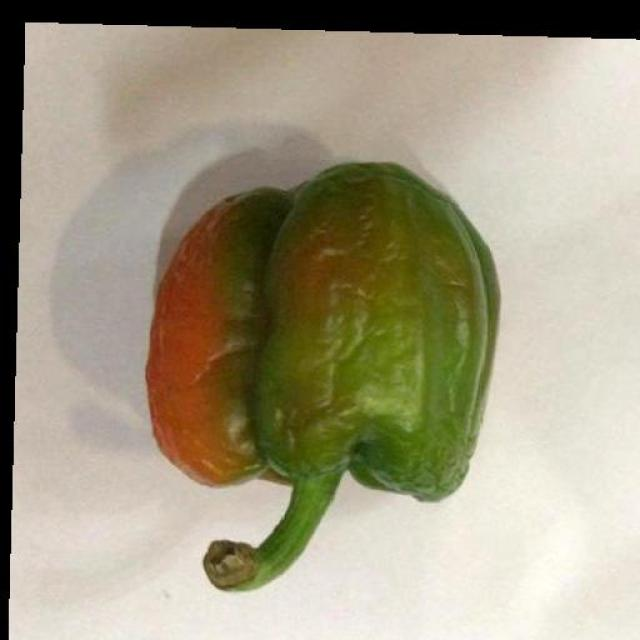Stale_Capsicum: (140, 145, 492, 545)
